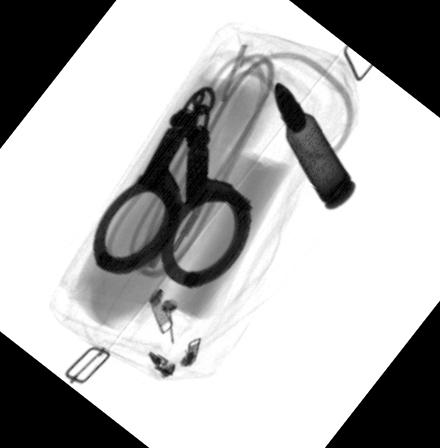Bullet: (276, 78, 358, 212)
HandCuffs: (94, 82, 253, 290)
